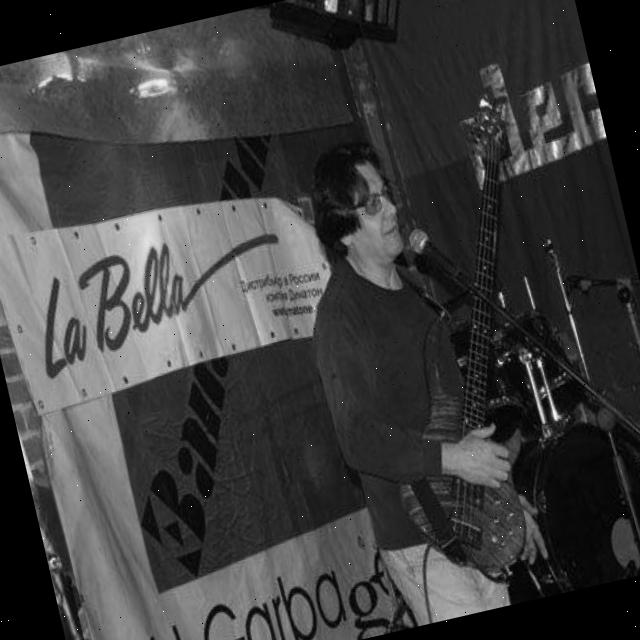drums: (445, 279, 640, 604)
guitar: (318, 90, 616, 598)
